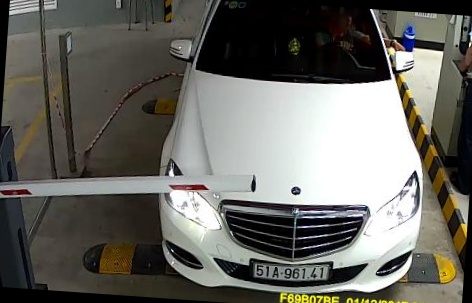plate: (241, 252, 336, 286)
